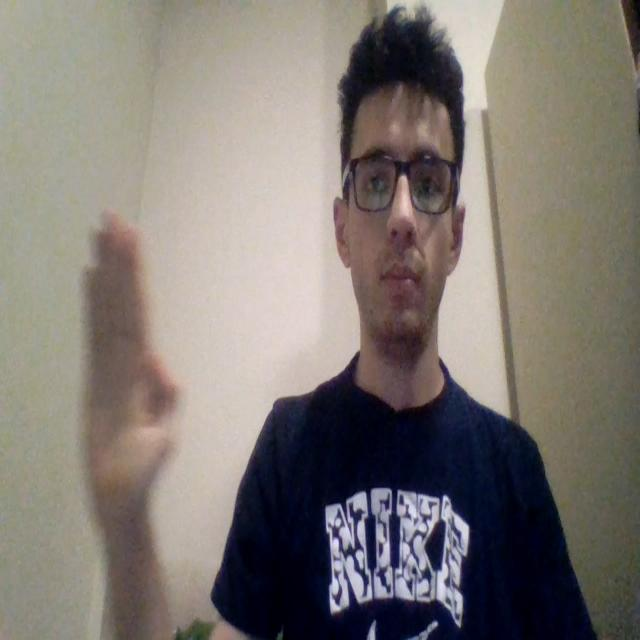hello: (70, 200, 182, 534)
